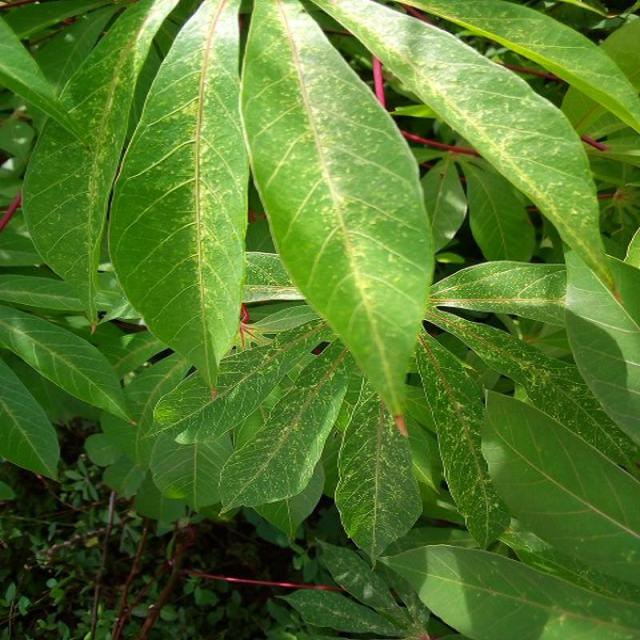cassava leaf: (0, 0, 638, 637), (306, 0, 621, 305), (237, 0, 436, 421), (106, 0, 250, 390)
